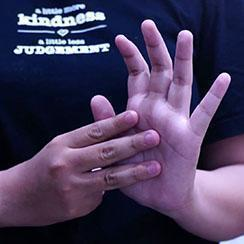M: (50, 1, 238, 241)
